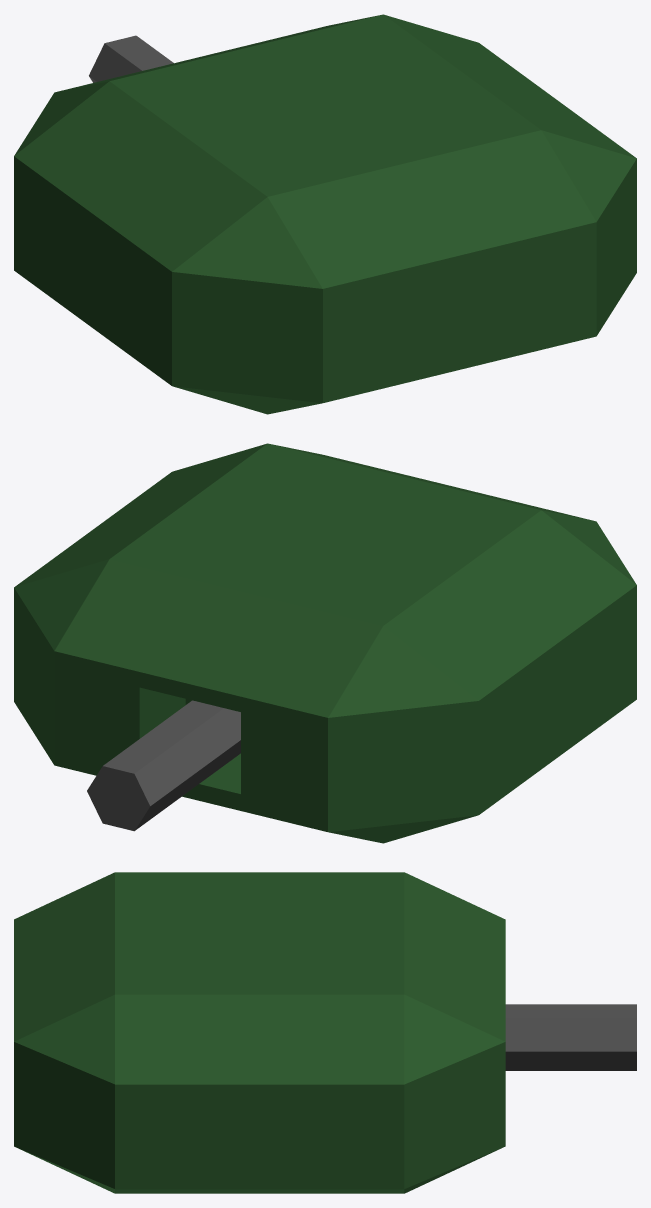
Rendered from Tower Head Single 1 Dir.fbx.
The picture shows the model from 3 angles, top to bottom: view 1: azimuth 30°, elevation 25°; view 2: azimuth 150°, elevation 25°; view 3: azimuth 270°, elevation 25°; orthographic projection. The views are drawn at different scales.
Visible parts, largest first — view 1: Dualshot 1 Direction Head.001; view 2: Dualshot 1 Direction Head.001; view 3: Dualshot 1 Direction Head.001.
Part boxes in pixels (x1,y1,x2,y2): Dualshot 1 Direction Head.001: (14,14,636,414); Dualshot 1 Direction Head.001: (14,443,636,843); Dualshot 1 Direction Head.001: (14,872,636,1193).
Size of the model in its own units: 121 by 54.18 by 154.
